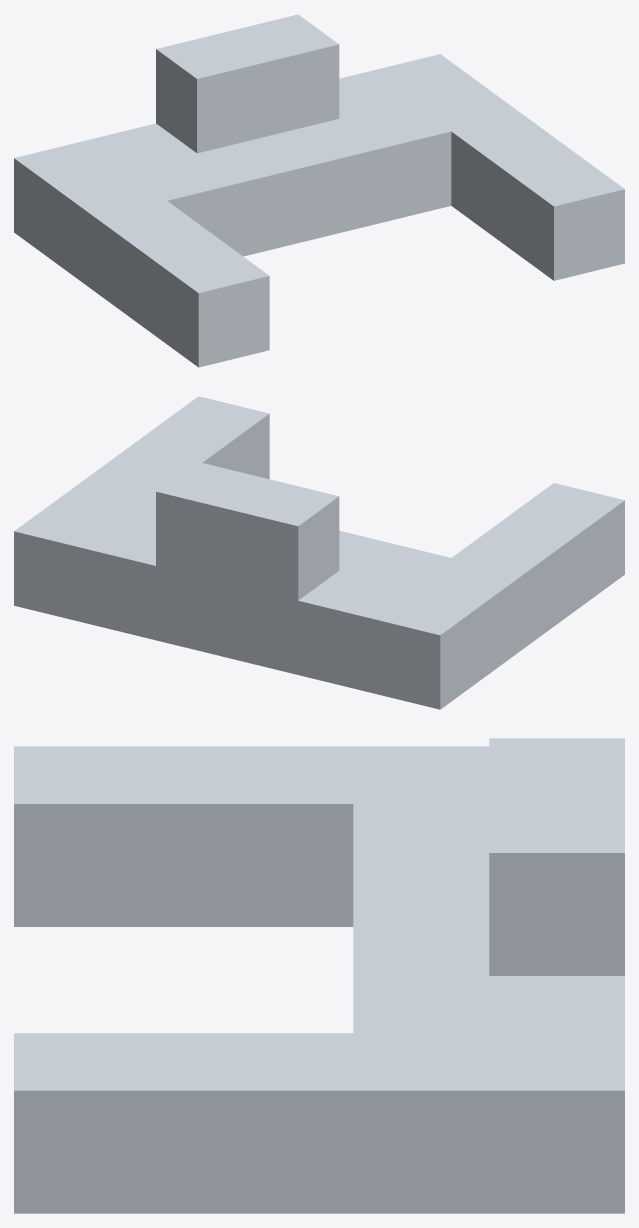
Rendered from Crochet_fourche.glb.
The picture shows the model from 3 angles, top to bottom: view 1: azimuth 30°, elevation 25°; view 2: azimuth 150°, elevation 25°; view 3: azimuth 270°, elevation 25°; orthographic projection. The views are drawn at different scales.
Parts seen in each view (by area): view 1: generated(Clone); view 2: generated(Clone); view 3: generated(Clone).
Part boxes in pixels (box(x1,y1,x2,y2)): generated(Clone): box(14, 14, 624, 367); generated(Clone): box(14, 396, 624, 709); generated(Clone): box(14, 738, 624, 1213).
Bounding box in the file's own units: 6 × 2 × 4.5.
1 material, 1 textured.
